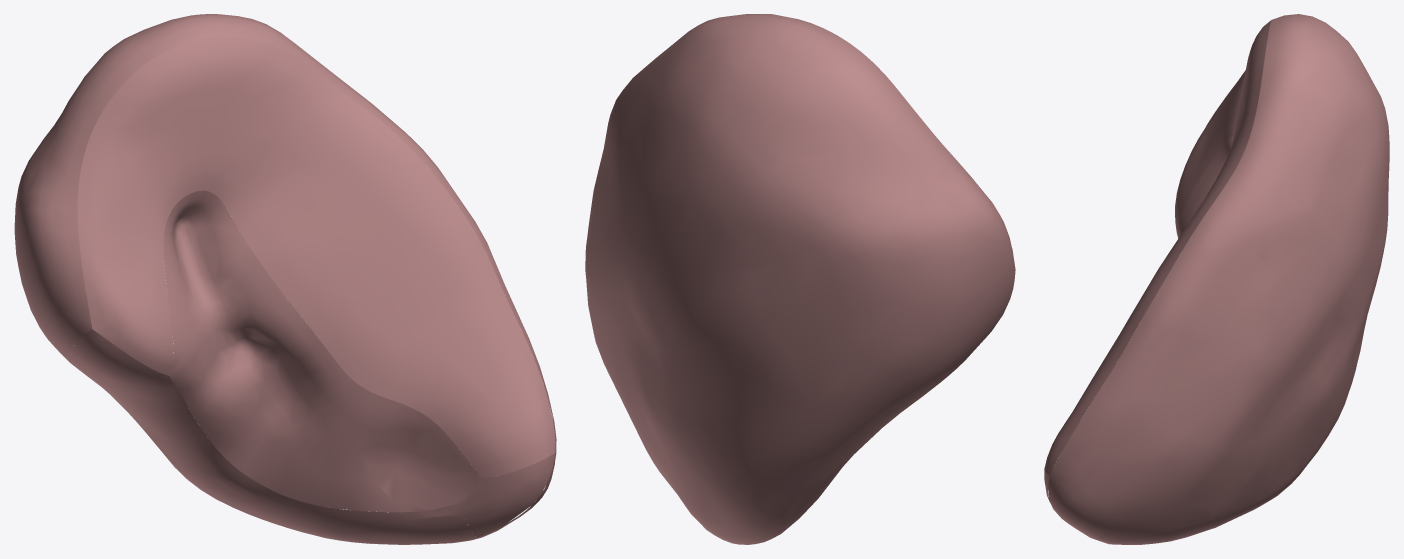
The model's file is vh_f_spleen-40.glb.
The picture shows the model from 3 angles, left to right: view 1: azimuth 30°, elevation 25°; view 2: azimuth 150°, elevation 25°; view 3: azimuth 270°, elevation 25°; orthographic projection. The views are drawn at different scales.
Visible parts, largest first — view 1: VH_F_gastric_surface_of_spleen, VH_F_hilum_of_spleen, VH_F_diaphragmatic_surface_of_spleen, VH_F_renal_surface_of_spleen, VH_F_colic_surface_of_spleen; view 2: VH_F_diaphragmatic_surface_of_spleen; view 3: VH_F_diaphragmatic_surface_of_spleen, VH_F_gastric_surface_of_spleen, VH_F_hilum_of_spleen.
Boxes of the visible parts, x1,y1,x2,y2 form: VH_F_gastric_surface_of_spleen: [77, 36, 555, 477]; VH_F_hilum_of_spleen: [163, 190, 479, 512]; VH_F_diaphragmatic_surface_of_spleen: [14, 14, 556, 544]; VH_F_renal_surface_of_spleen: [67, 329, 477, 544]; VH_F_colic_surface_of_spleen: [458, 453, 555, 537]; VH_F_diaphragmatic_surface_of_spleen: [585, 14, 1015, 544]; VH_F_diaphragmatic_surface_of_spleen: [1048, 14, 1389, 544]; VH_F_gastric_surface_of_spleen: [1044, 20, 1270, 475]; VH_F_hilum_of_spleen: [1178, 136, 1233, 237].
Bounding box in the file's own units: 0.0896 × 0.1023 × 0.0709.
